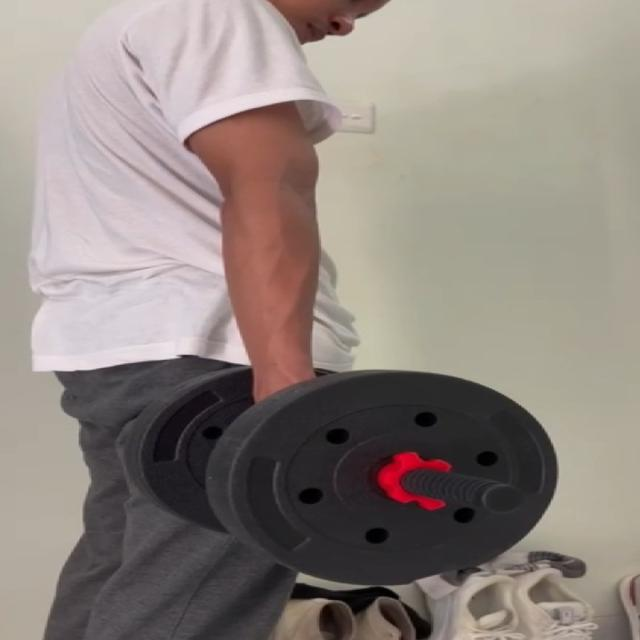dumbbell: (123, 364, 561, 584)
